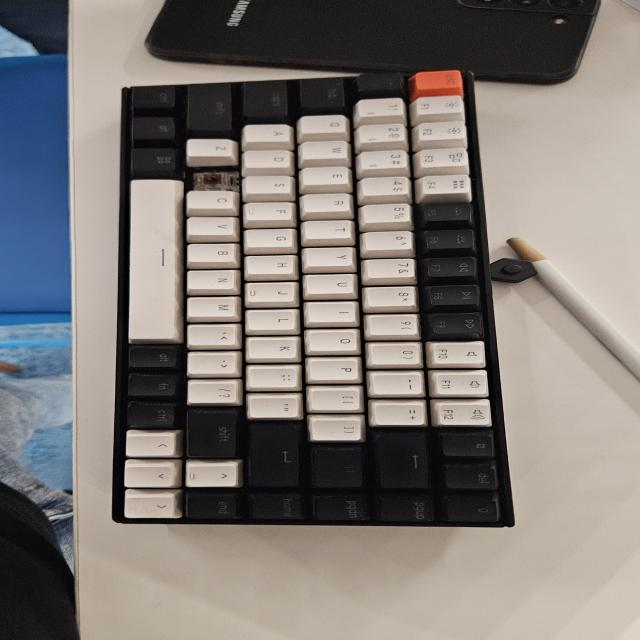C: (190, 170, 224, 193)
